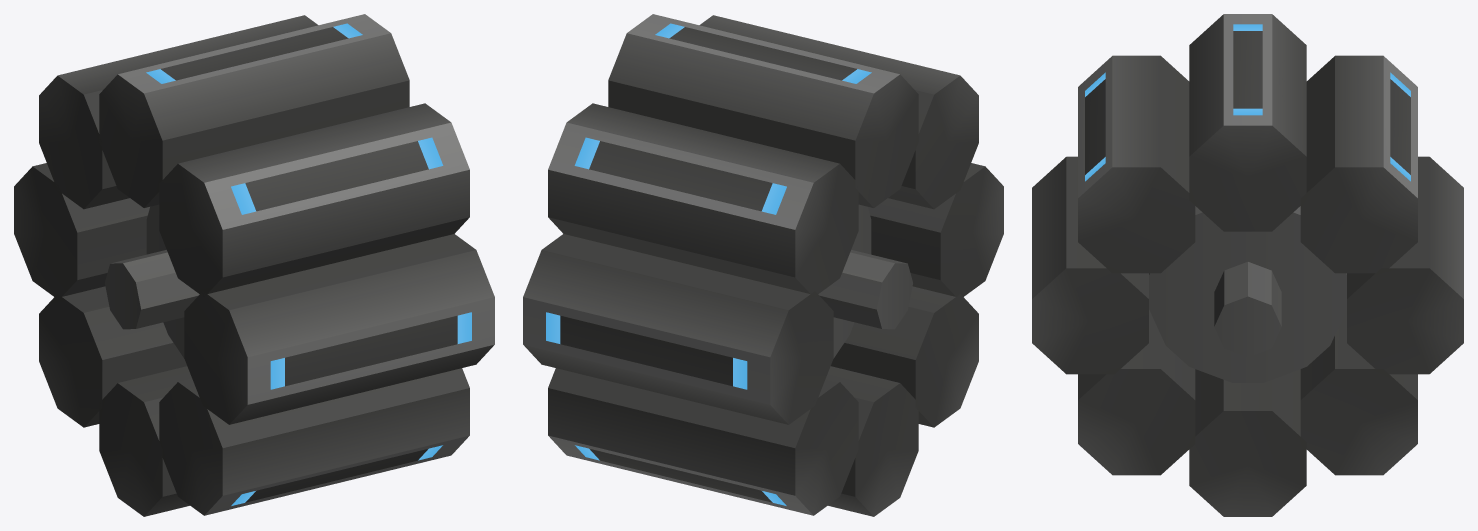
File: Grenade_Drum_mesh.fbx
3 views of the same model, side by side, from view 1: azimuth 30°, elevation 25°; view 2: azimuth 150°, elevation 25°; view 3: azimuth 270°, elevation 25° (orthographic). The views are drawn at different scales.
Parts seen in each view (by area): view 1: Grenade_mesh7, Grenade_mesh5, Grenade_mesh8, Grenade_mesh4, Grenade_mesh3, Grenade_mesh1, Grenade_mesh2, Grenade_mesh6, Grenade_Drum_mesh; view 2: Grenade_mesh2, Grenade_mesh1, Grenade_mesh8, Grenade_mesh3, Grenade_mesh4, Grenade_mesh5, Grenade_mesh7, Grenade_mesh6, Grenade_Drum_mesh; view 3: Grenade_Drum_mesh, Grenade_mesh8, Grenade_mesh2, Grenade_mesh7, Grenade_mesh5, Grenade_mesh1, Grenade_mesh6, Grenade_mesh4, Grenade_mesh3.
Boxes of the visible parts, left/top/right/bottom form: Grenade_mesh7: left=159, top=103, right=469, bottom=297; Grenade_mesh5: left=184, top=234, right=494, bottom=424; Grenade_mesh8: left=99, top=14, right=409, bottom=207; Grenade_mesh4: left=159, top=368, right=469, bottom=515; Grenade_mesh3: left=39, top=286, right=186, bottom=427; Grenade_mesh1: left=14, top=163, right=149, bottom=298; Grenade_mesh2: left=39, top=15, right=318, bottom=209; Grenade_mesh6: left=99, top=366, right=191, bottom=516; Grenade_Drum_mesh: left=105, top=204, right=199, bottom=358; Grenade_mesh2: left=548, top=103, right=858, bottom=294; Grenade_mesh1: left=523, top=234, right=833, bottom=424; Grenade_mesh8: left=608, top=14, right=918, bottom=207; Grenade_mesh3: left=548, top=368, right=858, bottom=515; Grenade_mesh4: left=831, top=286, right=978, bottom=427; Grenade_mesh5: left=868, top=163, right=1003, bottom=296; Grenade_mesh7: left=699, top=15, right=978, bottom=209; Grenade_mesh6: left=826, top=366, right=918, bottom=516; Grenade_Drum_mesh: left=818, top=204, right=912, bottom=358; Grenade_Drum_mesh: left=1149, top=206, right=1346, bottom=382; Grenade_mesh8: left=1189, top=14, right=1306, bottom=231; Grenade_mesh2: left=1300, top=55, right=1417, bottom=273; Grenade_mesh7: left=1078, top=55, right=1195, bottom=273; Grenade_mesh5: left=1032, top=156, right=1148, bottom=374; Grenade_mesh1: left=1347, top=156, right=1463, bottom=374; Grenade_mesh6: left=1189, top=369, right=1306, bottom=516; Grenade_mesh4: left=1078, top=309, right=1195, bottom=475; Grenade_mesh3: left=1300, top=309, right=1417, bottom=475.
Bounding box in the file's own units: 13.84 × 20.72 × 20.72.
Materials: 2 (1 with a texture image).
